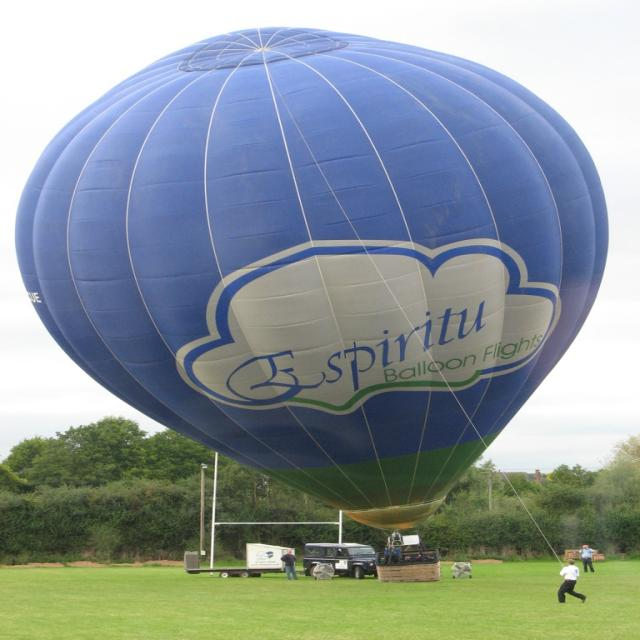balloon: (15, 26, 611, 535)
